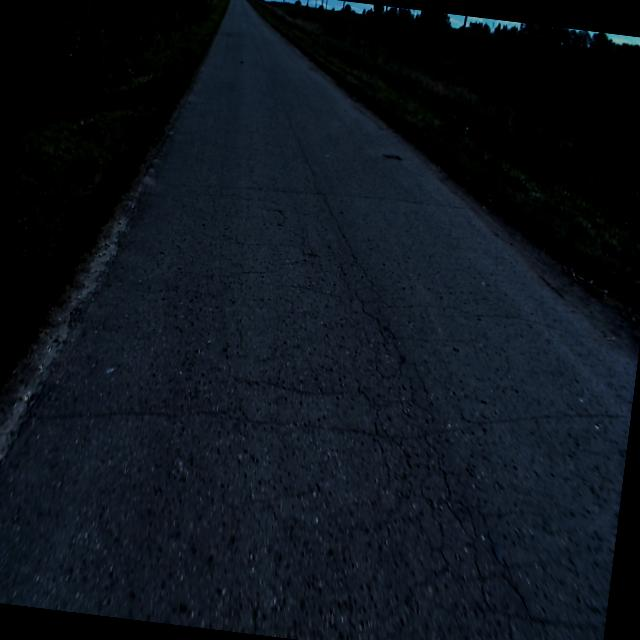road: (0, 0, 637, 640)
